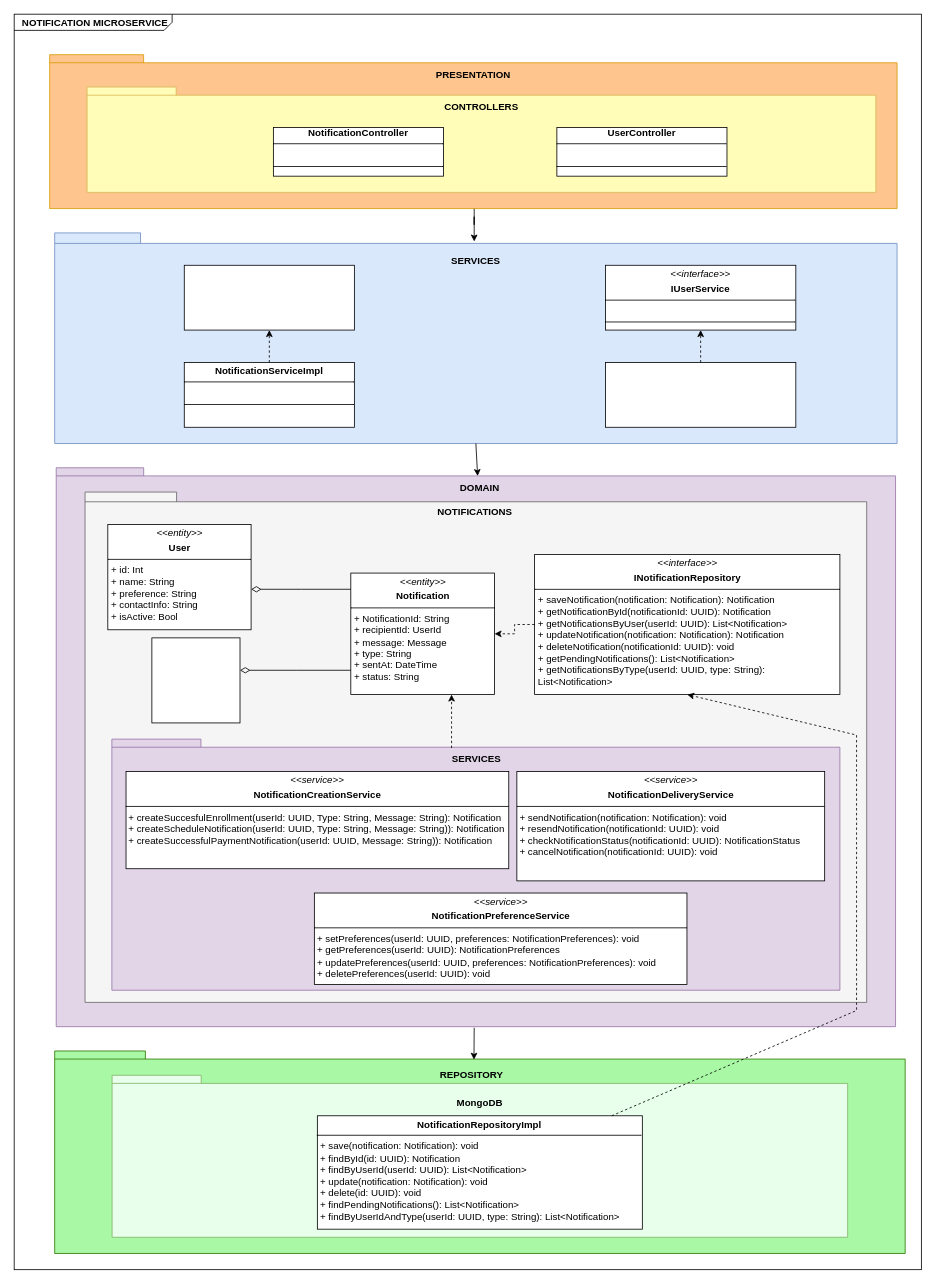
Some shapes in this 936 by 1284 pixel diagram are drawn without their labels. The centre of each missing label's shape, as x and y in pixels:
<<interface>> INotificationService: the point at 268,297
<<VO>> Message + subject: String + body: String + channel: String: the point at 195,680
UserServiceImpl: the point at 700,394
